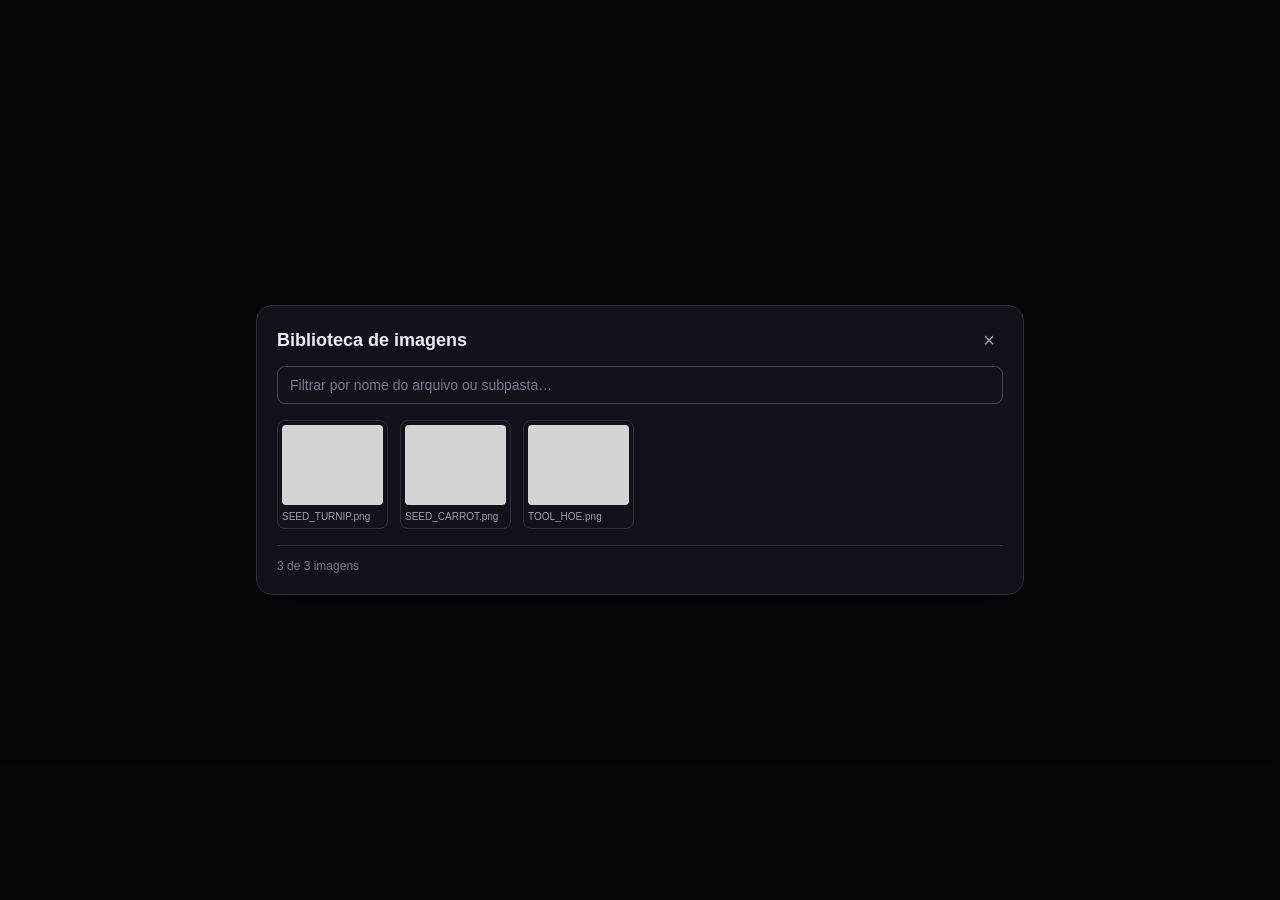
it: ImageLibraryPicker › avisa quando o filtro não acha nada, em vez de mostrar grade vazia
Type "zzz" into the field with placeholder "Filtrar por nome do arquivo ou subpasta…" at (640, 385), box [277,366,1003,404]
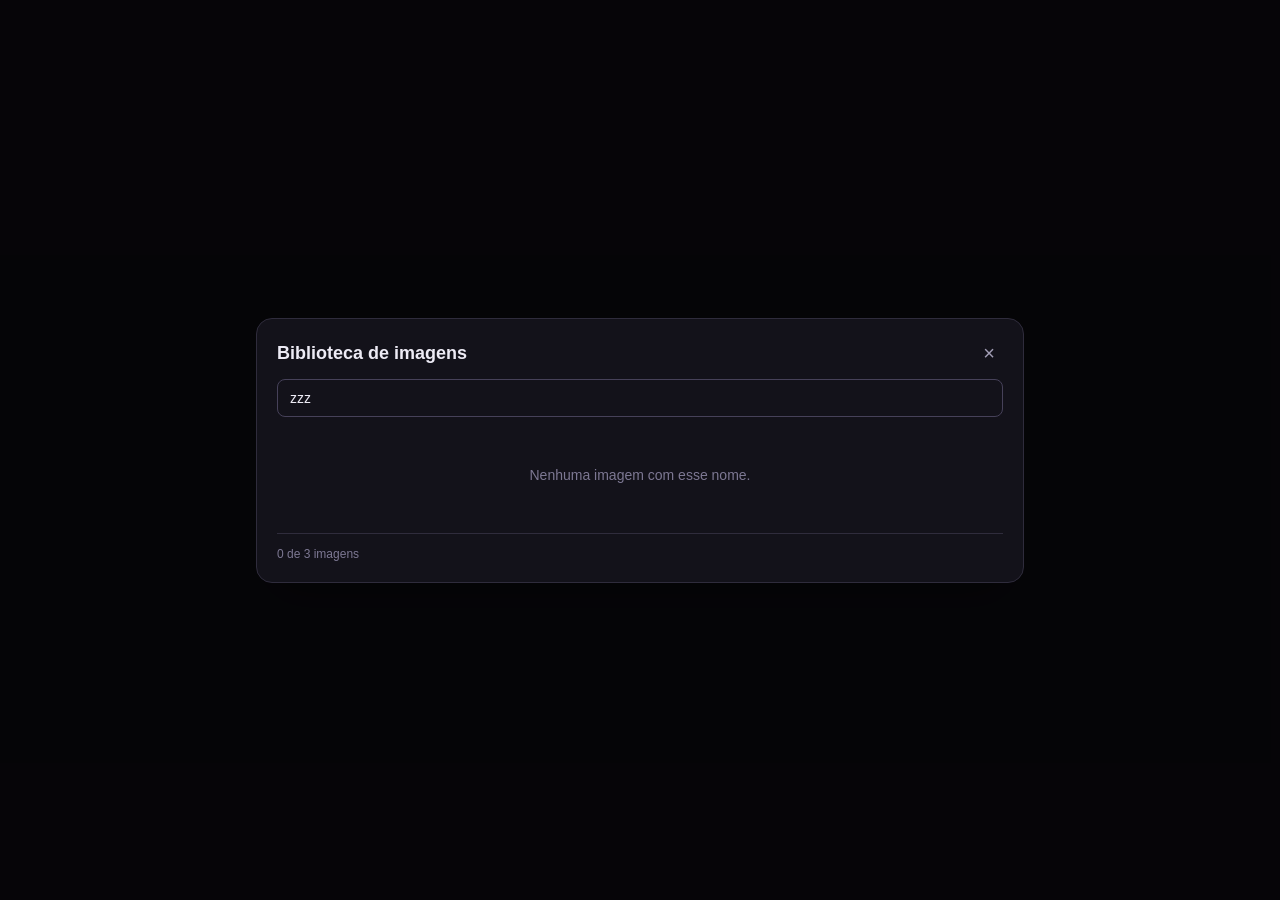
Now the text "Nenhuma imagem com esse nome." is shown, box [530,466,750,482]
